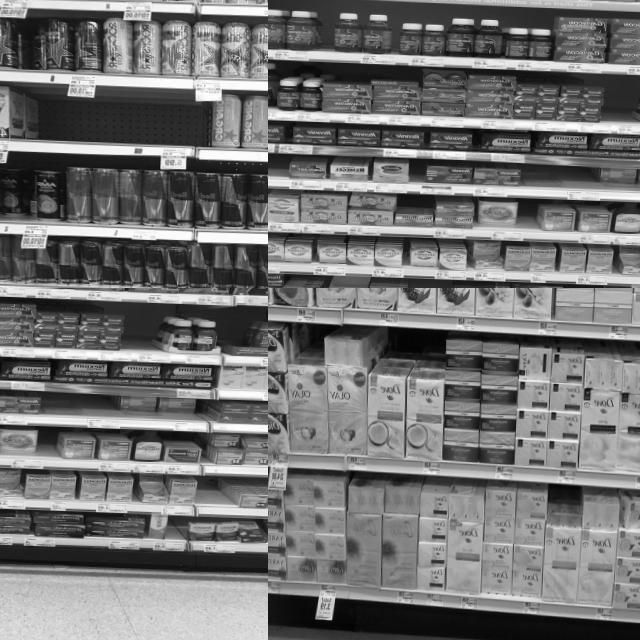100% O.O.S: (520, 164, 594, 200), (40, 392, 114, 428), (602, 81, 633, 134), (122, 309, 153, 362), (197, 476, 220, 514), (518, 198, 536, 240), (38, 426, 56, 468), (268, 152, 288, 188), (167, 516, 187, 550), (409, 279, 447, 288)
100- O.O.S: (38, 95, 192, 156)
